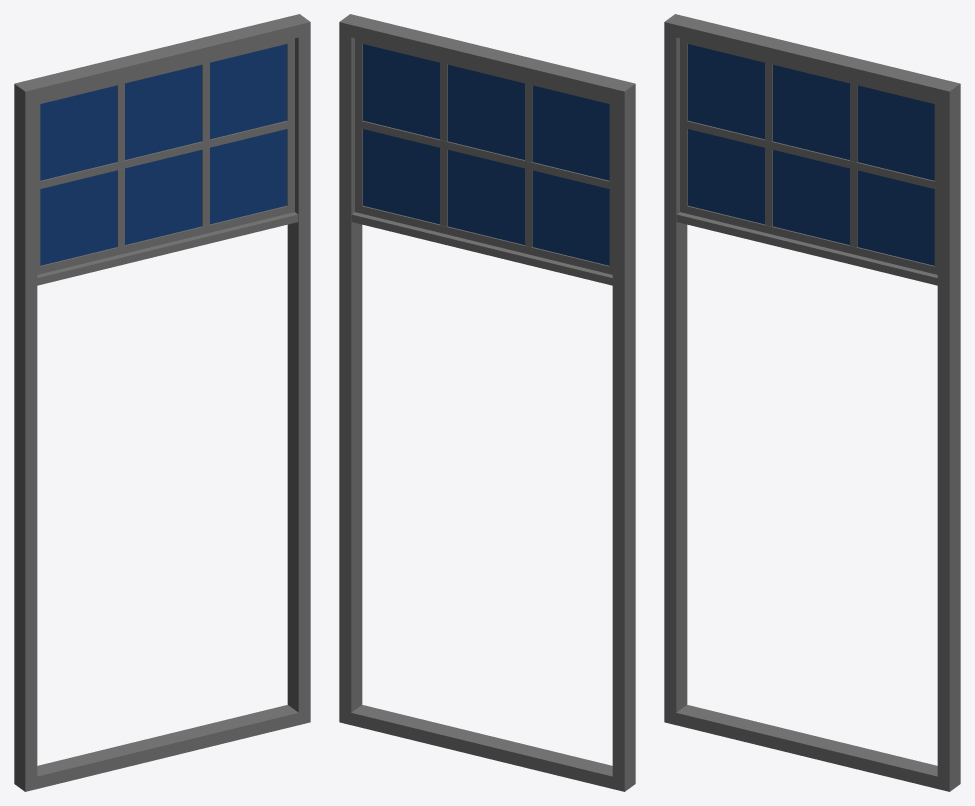
The model's file is window2_door2.FBX.
3 renders of one model, left to right at view 1: azimuth 30°, elevation 25°; view 2: azimuth 150°, elevation 25°; view 3: azimuth 330°, elevation 25°, orthographic.
Visible parts, largest first — view 1: window2_door2; view 2: window2_door2; view 3: window2_door2.
Part boxes in pixels (<box>): window2_door2: <box>14,14,310,791</box>; window2_door2: <box>339,14,635,791</box>; window2_door2: <box>664,14,960,791</box>.
Size of the model in its own units: 180 by 422 by 12.
